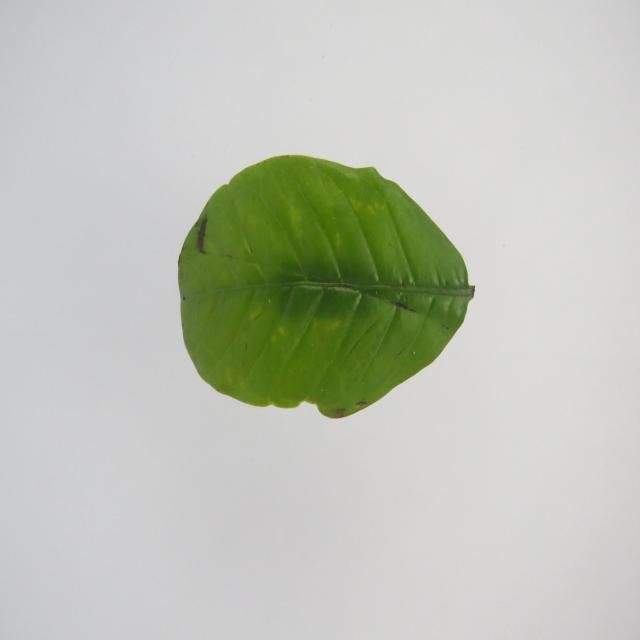DeficienciaNutricional-Boro: (179, 155, 474, 418)
